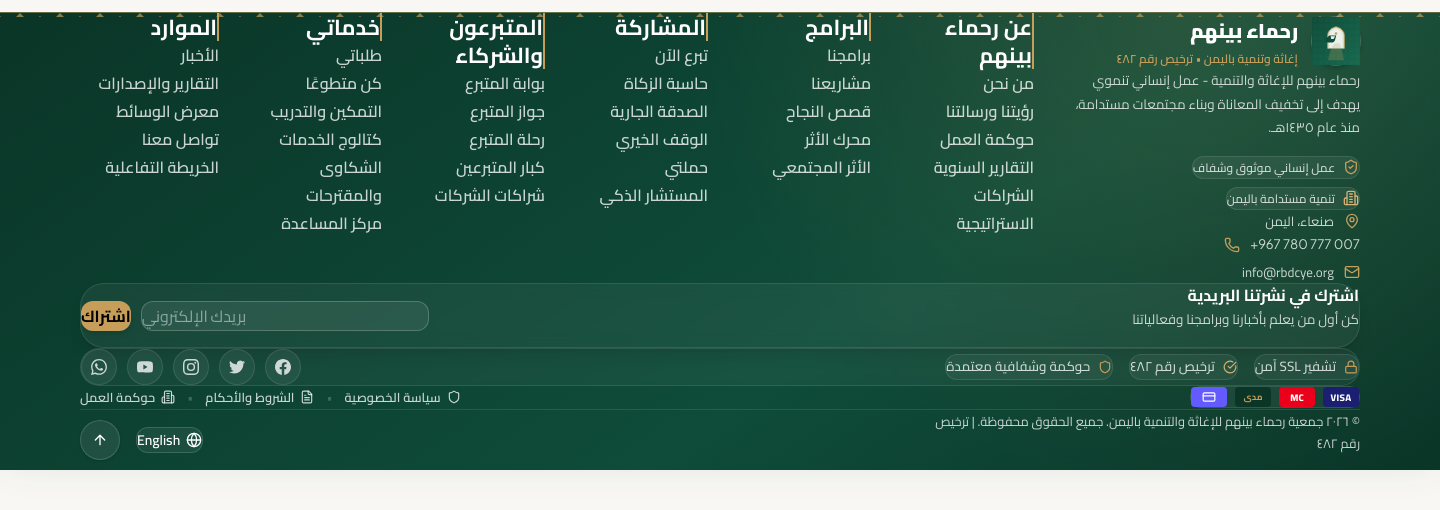
Footer Component › handles newsletter submission error gracefully
The width and height of the screenshot is (1440, 510).
Step 1. Type "fail@example.com" into the field with placeholder "بريدك الإلكتروني" → (285,316), box x1=141 y1=301 x2=429 y2=331
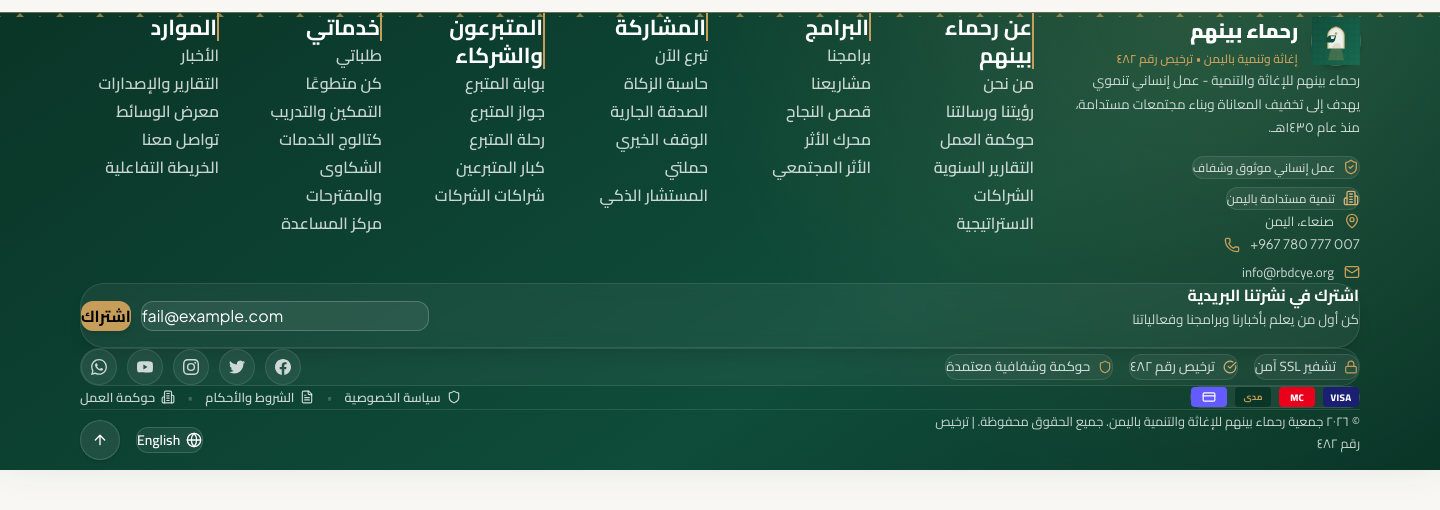
Step 2. Submit the form with placeholder "بريدك الإلكتروني", box x1=81 y1=301 x2=429 y2=331
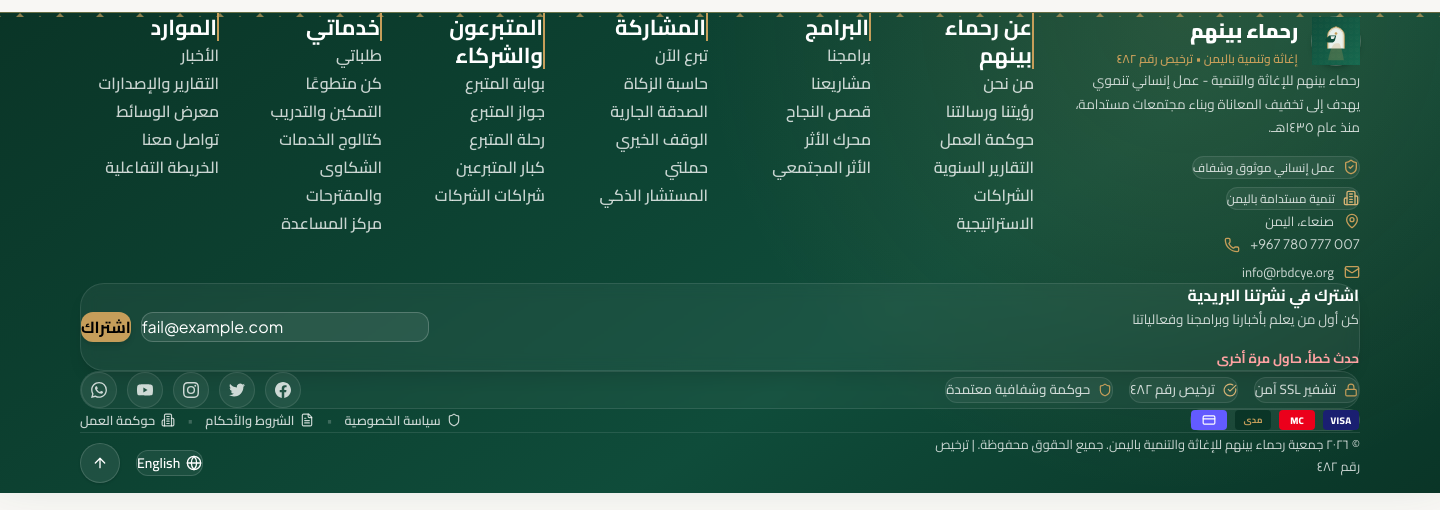
Check: the text "حدث خطأ، حاول مرة أخرى" is shown, box x1=1217 y1=346 x2=1359 y2=370
